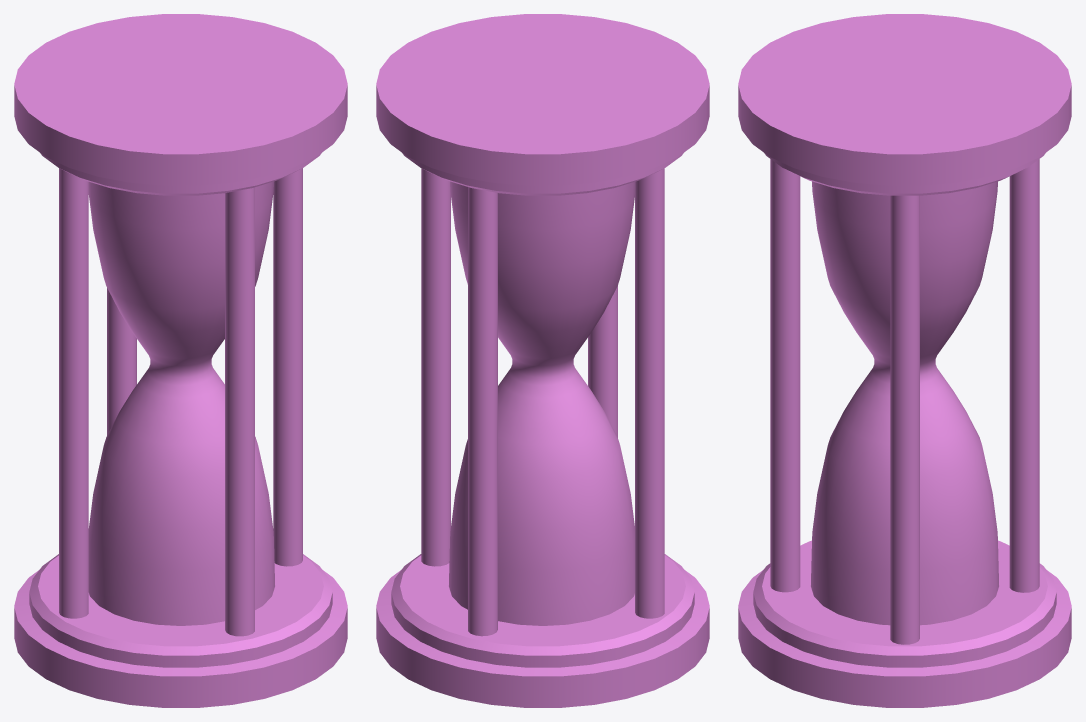
File: SM_HourGlass_mesh_lod1.fbx
3 views of the same model, side by side, from view 1: azimuth 30°, elevation 25°; view 2: azimuth 150°, elevation 25°; view 3: azimuth 270°, elevation 25° (orthographic).
Parts seen in each view (by area): view 1: Cylinder.002, Cylinder.004; view 2: Cylinder.002, Cylinder.004; view 3: Cylinder.002, Cylinder.004.
Boxes of the visible parts, box(x1,y1,x2,y2) form: Cylinder.002: box(14, 14, 347, 707); Cylinder.004: box(88, 181, 274, 625); Cylinder.002: box(376, 14, 709, 707); Cylinder.004: box(449, 181, 634, 625); Cylinder.002: box(738, 14, 1071, 707); Cylinder.004: box(811, 181, 998, 625).
Size of the model in its own units: 199 by 366 by 200.
